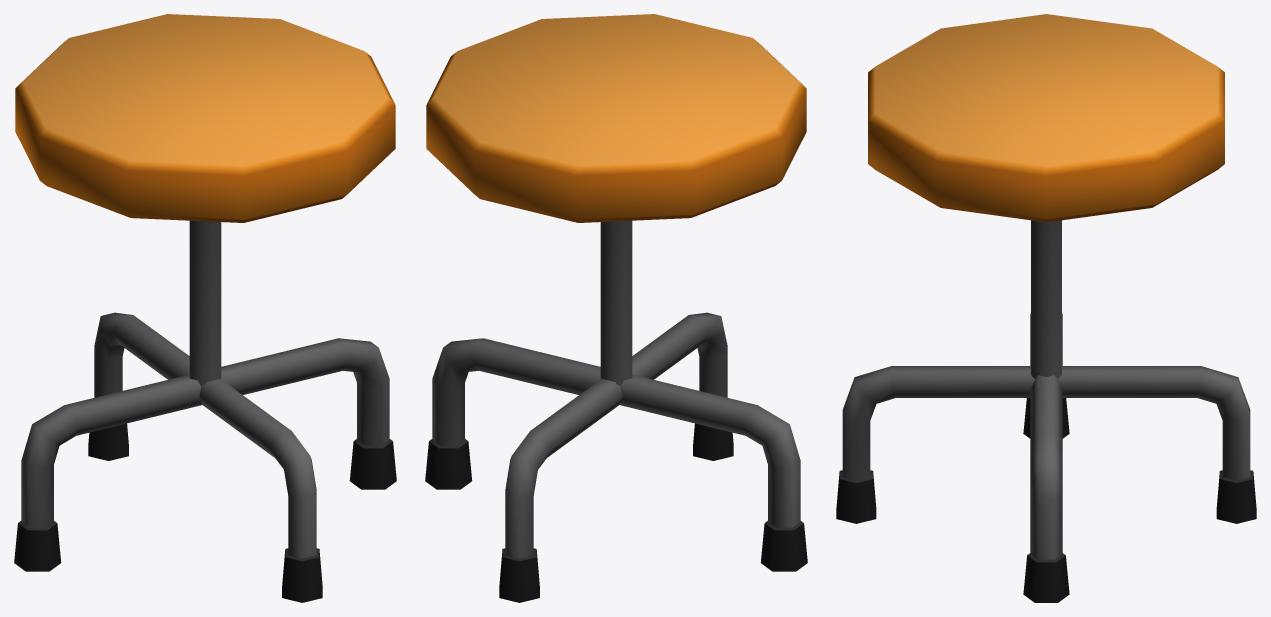
File: CR_sci_Chair_001.FBX
The picture shows the model from 3 angles, left to right: view 1: azimuth 30°, elevation 25°; view 2: azimuth 150°, elevation 25°; view 3: azimuth 270°, elevation 25°; orthographic projection.
Visible parts, largest first — view 1: CR_sci_Chair_001; view 2: CR_sci_Chair_001; view 3: CR_sci_Chair_001.
Part boxes in pixels (<box>): CR_sci_Chair_001: <box>14,14,396,602</box>; CR_sci_Chair_001: <box>425,14,807,602</box>; CR_sci_Chair_001: <box>836,14,1256,602</box>.
Bounding box in the file's own units: 30.96 × 34.46 × 30.96.
